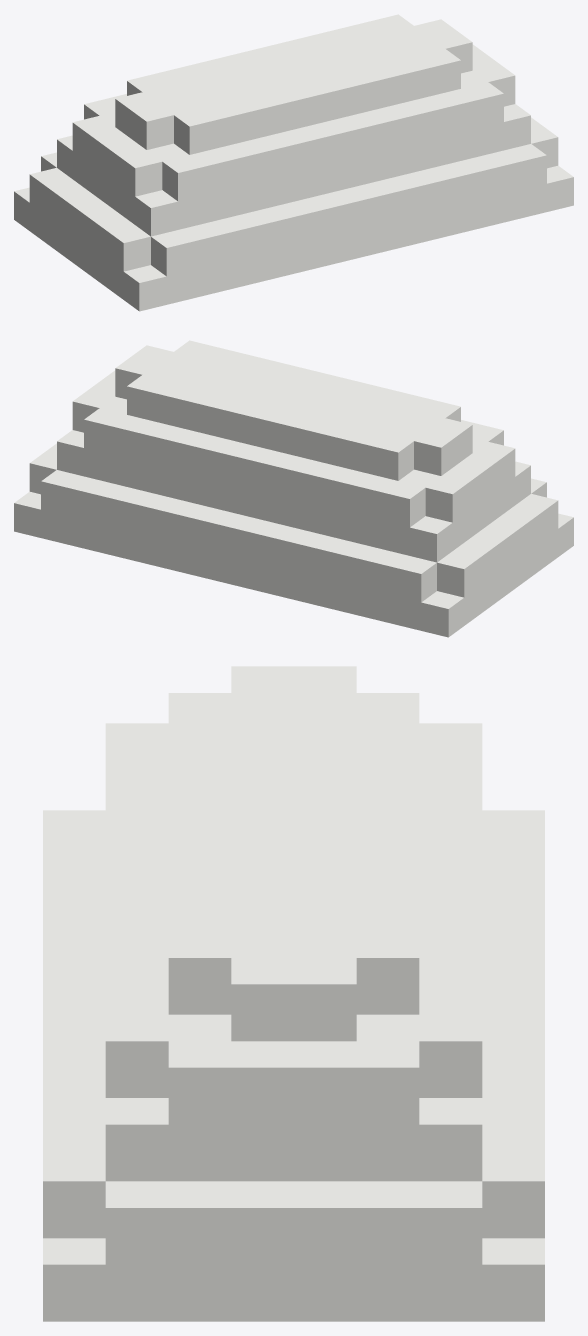
The model's file is Bar.obj.
The picture shows the model from 3 angles, top to bottom: view 1: azimuth 30°, elevation 25°; view 2: azimuth 150°, elevation 25°; view 3: azimuth 270°, elevation 25°; orthographic projection. The views are drawn at different scales.
Bounding box in the file's own units: 1.6 × 0.5 × 0.8.
1 material, 1 textured.
